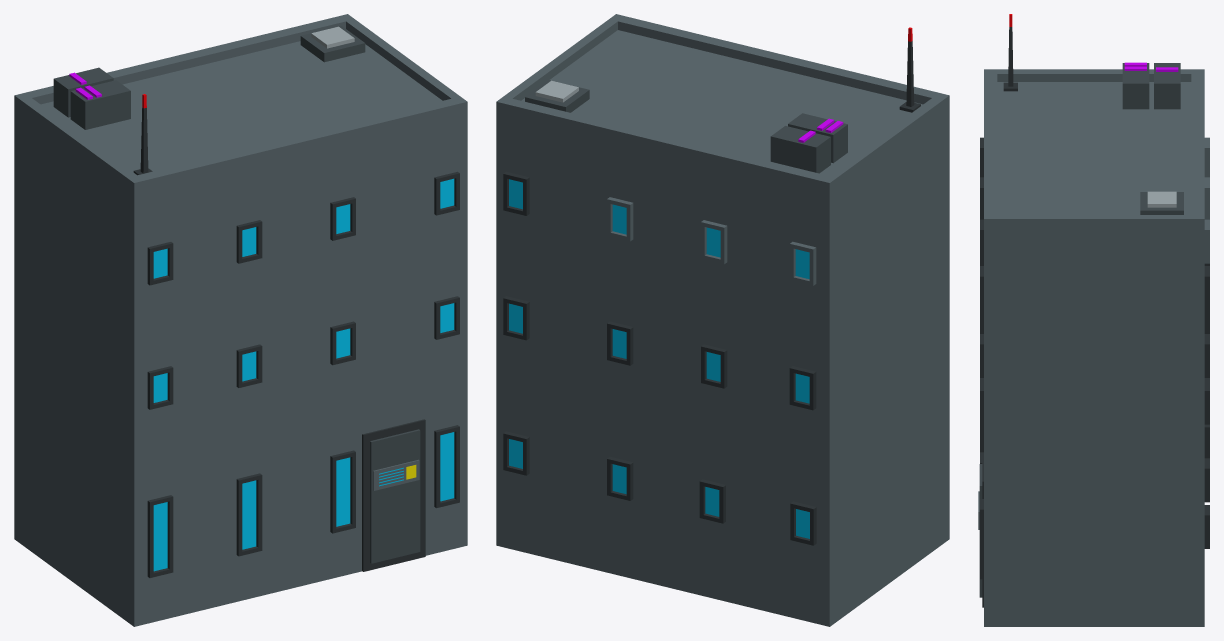
File: Building 04.FBX
3 renders of one model, left to right at view 1: azimuth 30°, elevation 25°; view 2: azimuth 150°, elevation 25°; view 3: azimuth 270°, elevation 25°, orthographic. The views are drawn at different scales.
Parts seen in each view (by area): view 1: Building 04, Building 04 Door; view 2: Building 04; view 3: Building 04, Building 04 Door.
Boxes of the visible parts, x1,y1,x2,y2 form: Building 04: (14,14,467,626); Building 04 Door: (362,419,425,571); Building 04: (496,14,949,626); Building 04: (980,14,1209,626); Building 04 Door: (978,454,983,607).
Size of the model in its own units: 552 by 816 by 361.
